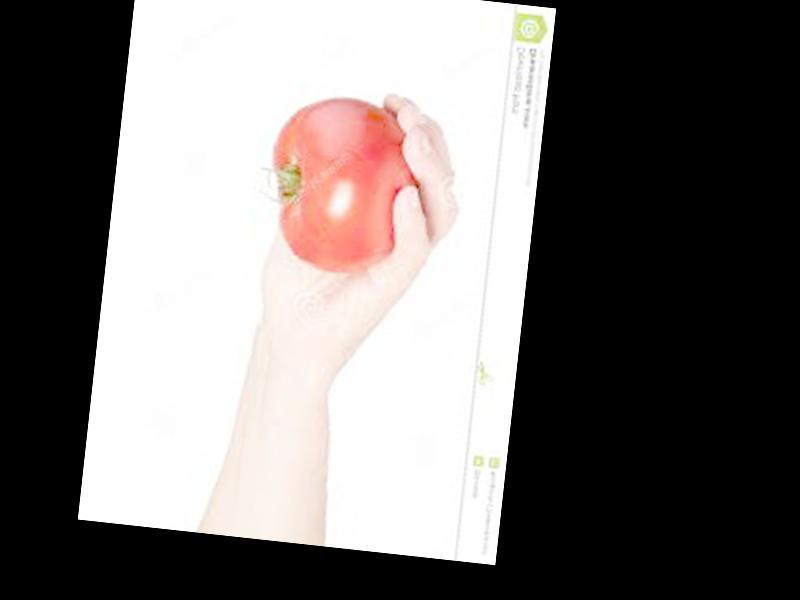Tomato: (259, 90, 425, 282)
